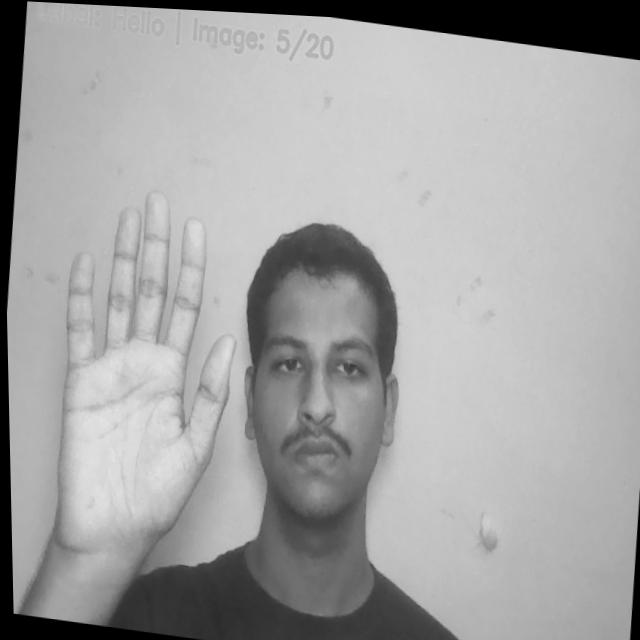Hello: (35, 178, 242, 578)
